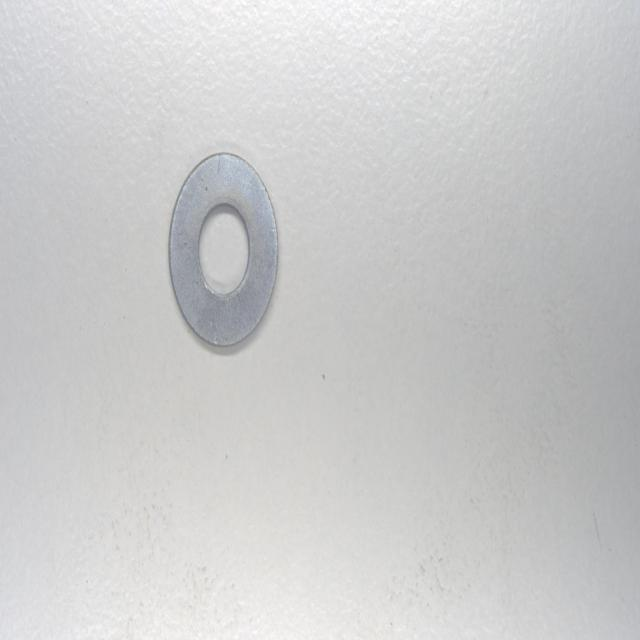washer: (166, 154, 283, 358)
